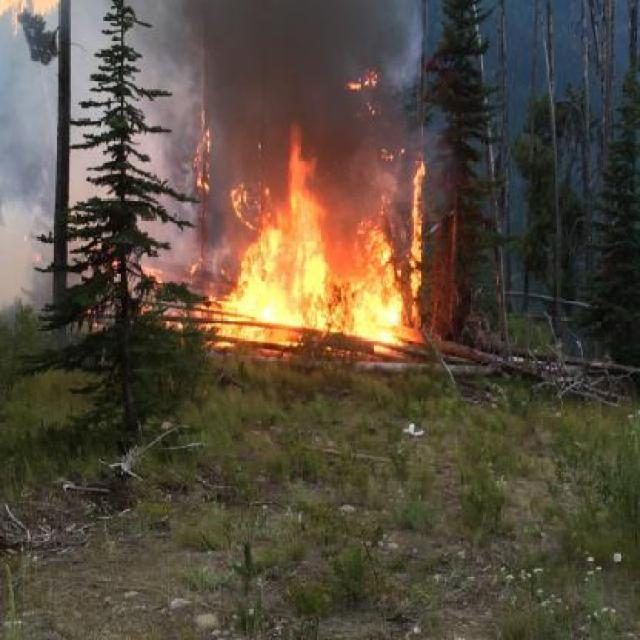Fire: (128, 82, 443, 367)
Smoke: (0, 0, 458, 307)
